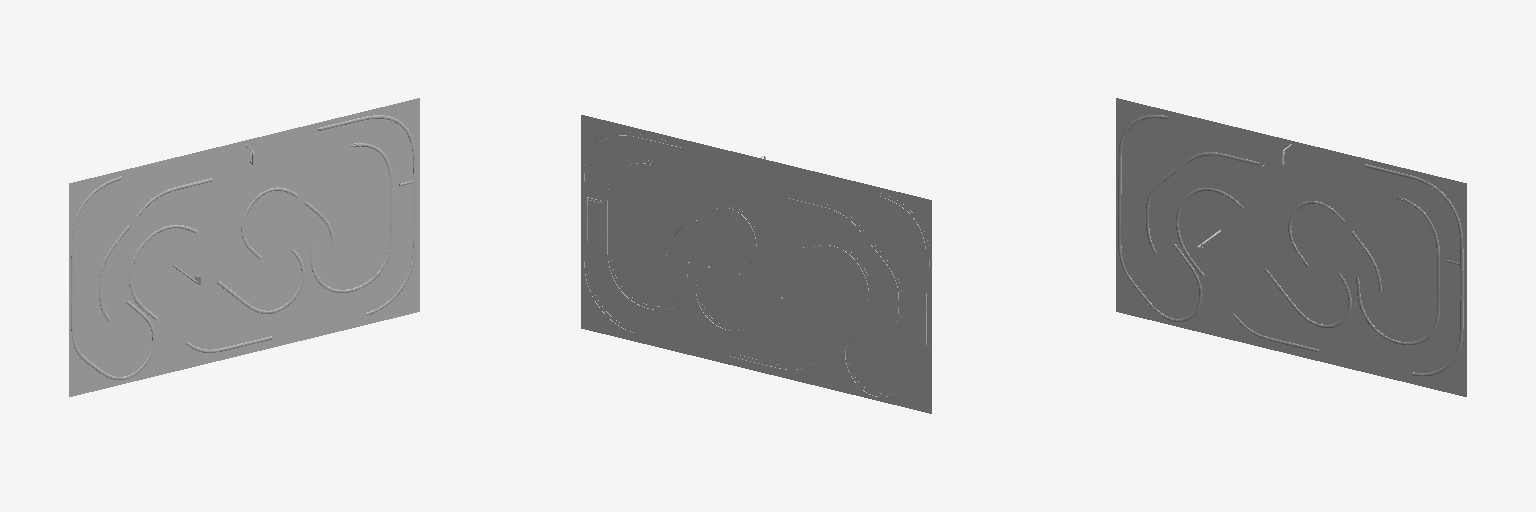
Rendered from Track.obj.
The picture shows the model from 3 angles: view 1: azimuth 30°, elevation 25°; view 2: azimuth 150°, elevation 25°; view 3: azimuth 330°, elevation 25°; orthographic projection.
Visible parts, largest first — view 1: Cube_4__0; view 2: Cube_4__0; view 3: Cube_4__0.
Boxes of the visible parts, box(x1,y1,x2,y2) form: Cube_4__0: box(69, 98, 419, 396); Cube_4__0: box(581, 115, 931, 413); Cube_4__0: box(1116, 98, 1466, 396).
Size of the model in its own units: 1412 by 823 by 164.